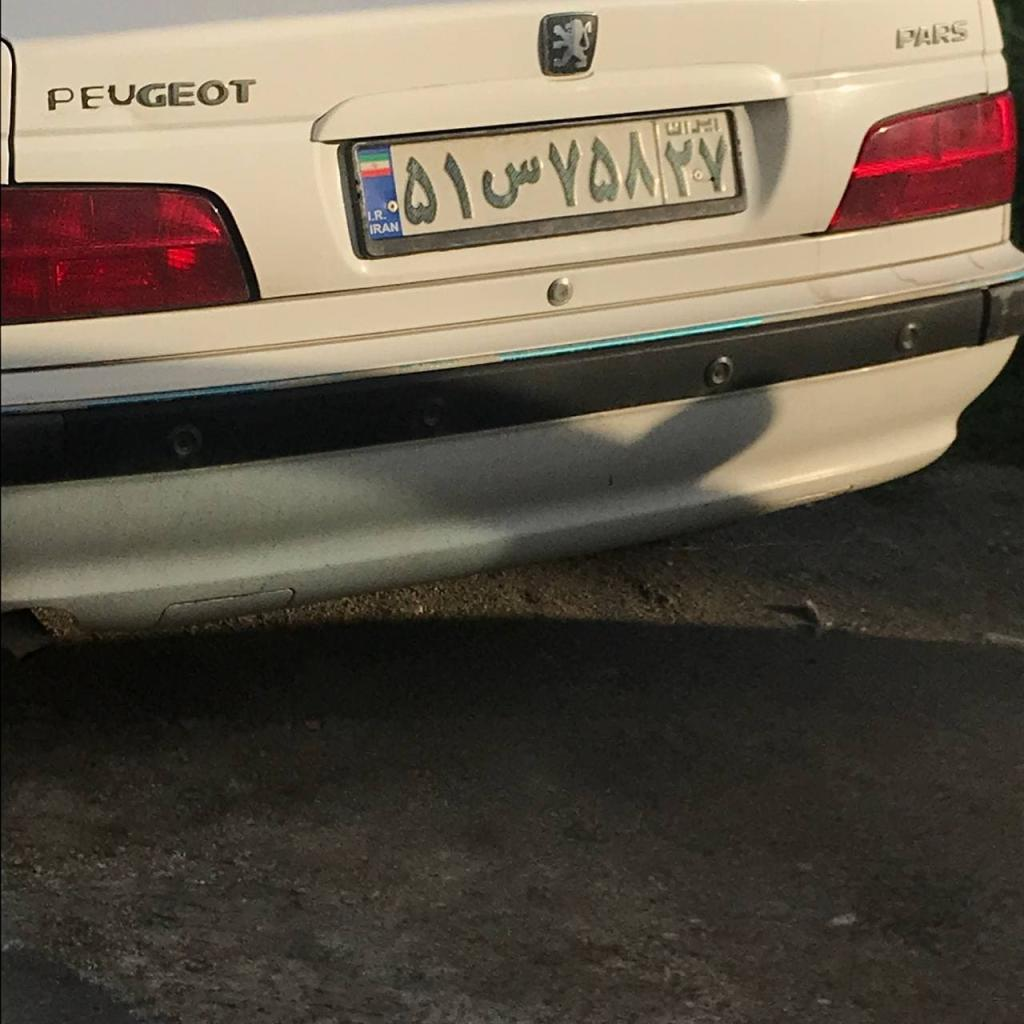Plates: (356, 110, 738, 239)
